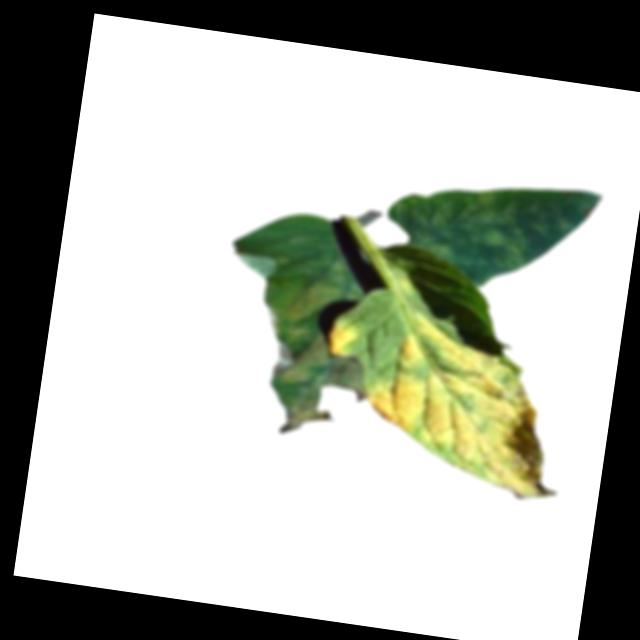Leaf_Mold: (357, 305, 579, 503), (384, 163, 602, 302), (247, 258, 385, 447)
